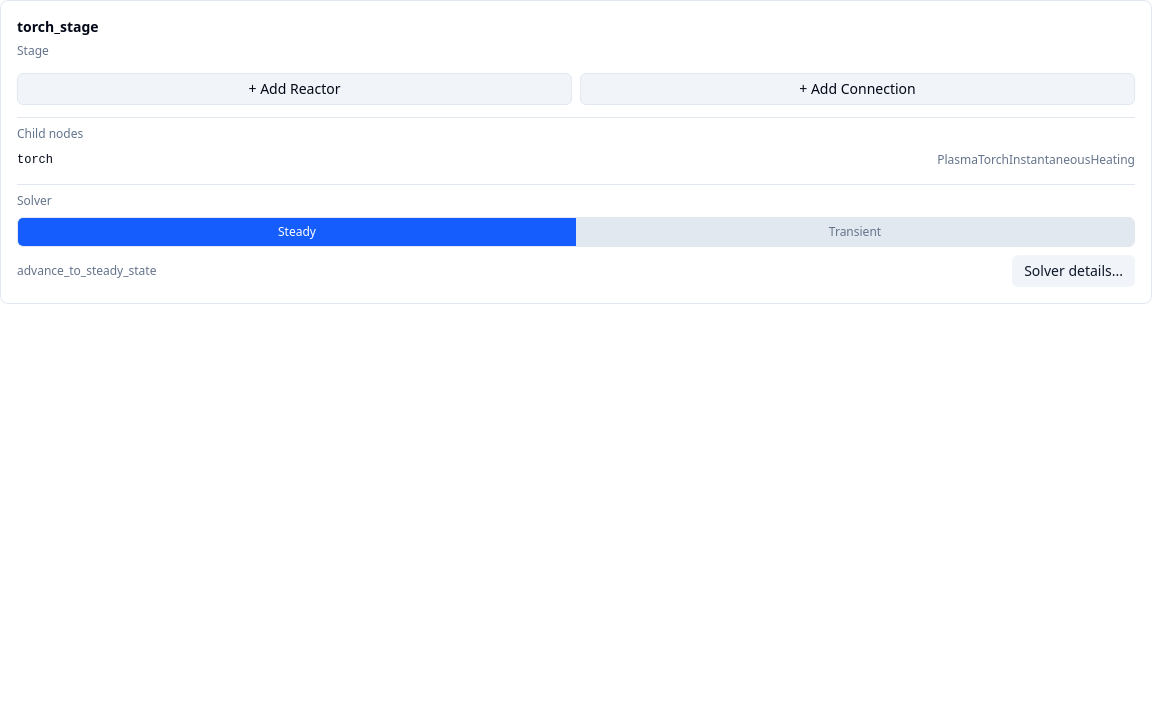
StageCard › opens the Solver Details modal
The image size is (1152, 720).
Click the button "Solver details..." at (1074, 271), box [1012, 255, 1135, 287]
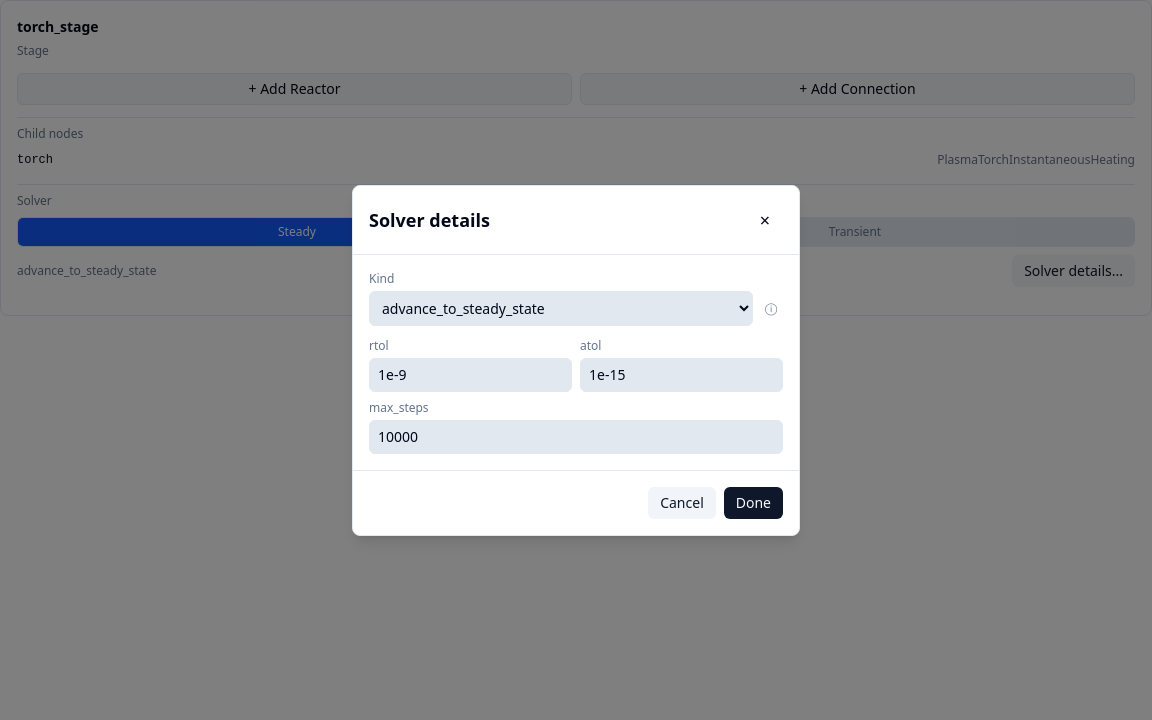
Expected: the element with test id "solver-details-modal" is shown
